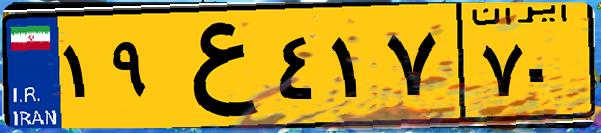0: (525, 38, 570, 115)
1: (330, 28, 385, 110), (57, 26, 110, 100)
4: (270, 28, 330, 110)
7: (385, 28, 445, 110), (475, 38, 525, 113)
9: (110, 28, 158, 98)
ع: (158, 12, 270, 120)
